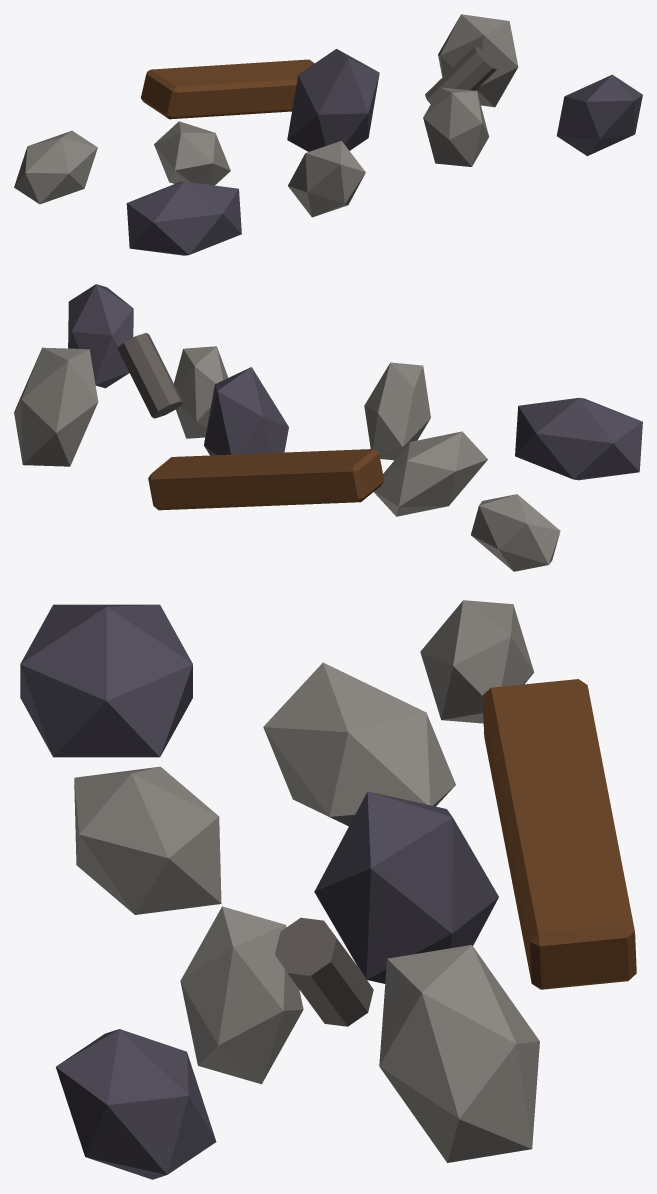
File: rail_ballast_cluster.glb
3 views of the same model, one above another, from view 1: azimuth 30°, elevation 25°; view 2: azimuth 150°, elevation 25°; view 3: azimuth 270°, elevation 25° (orthographic). The views are drawn at different scales.
Parts seen in each view (by area): view 1: GEO_stone, GEO_stonedark, GEO_wooddark, GEO_iron; view 2: GEO_stone, GEO_stonedark, GEO_wooddark, GEO_iron; view 3: GEO_stone, GEO_stonedark, GEO_wooddark, GEO_iron.
Boxes of the visible parts, bbox=[...] form: GEO_stone: bbox=[14, 14, 518, 217]; GEO_stonedark: bbox=[126, 49, 642, 255]; GEO_wooddark: bbox=[141, 59, 314, 119]; GEO_iron: bbox=[425, 46, 496, 104]; GEO_stone: bbox=[14, 346, 560, 571]; GEO_stonedark: bbox=[68, 284, 642, 480]; GEO_wooddark: bbox=[148, 449, 384, 510]; GEO_iron: bbox=[117, 333, 183, 418]; GEO_stone: bbox=[74, 600, 539, 1162]; GEO_stonedark: bbox=[20, 604, 498, 1179]; GEO_wooddark: bbox=[482, 679, 636, 989]; GEO_iron: bbox=[275, 917, 373, 1026].
Bounding box in the file's own units: 2.08 × 0.4053 × 1.05.
